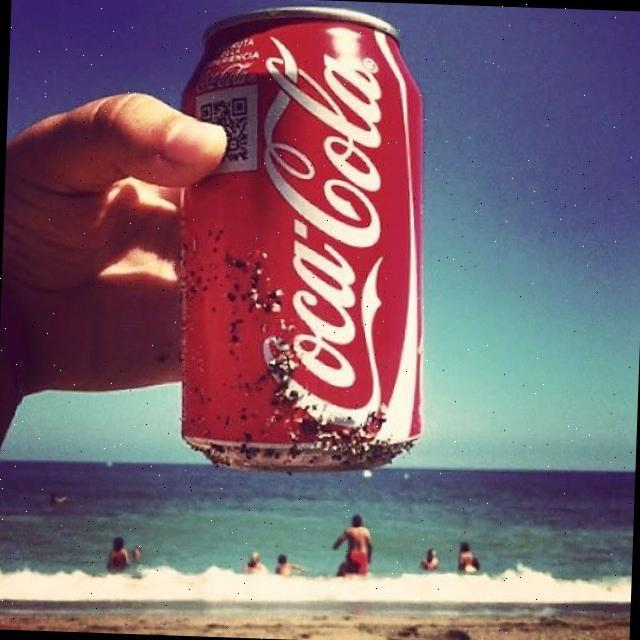coca-cola: (166, 2, 439, 481)
